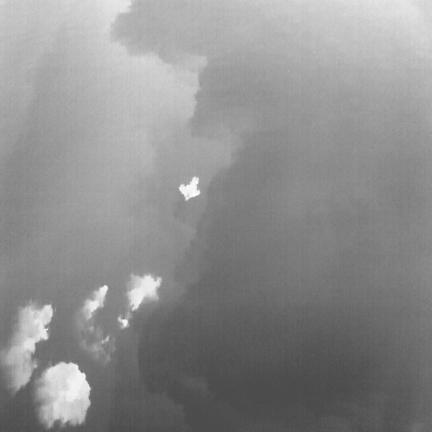flukeprints: (34, 362, 90, 428), (11, 304, 53, 356), (127, 274, 161, 310), (82, 285, 107, 319), (179, 176, 200, 201)
